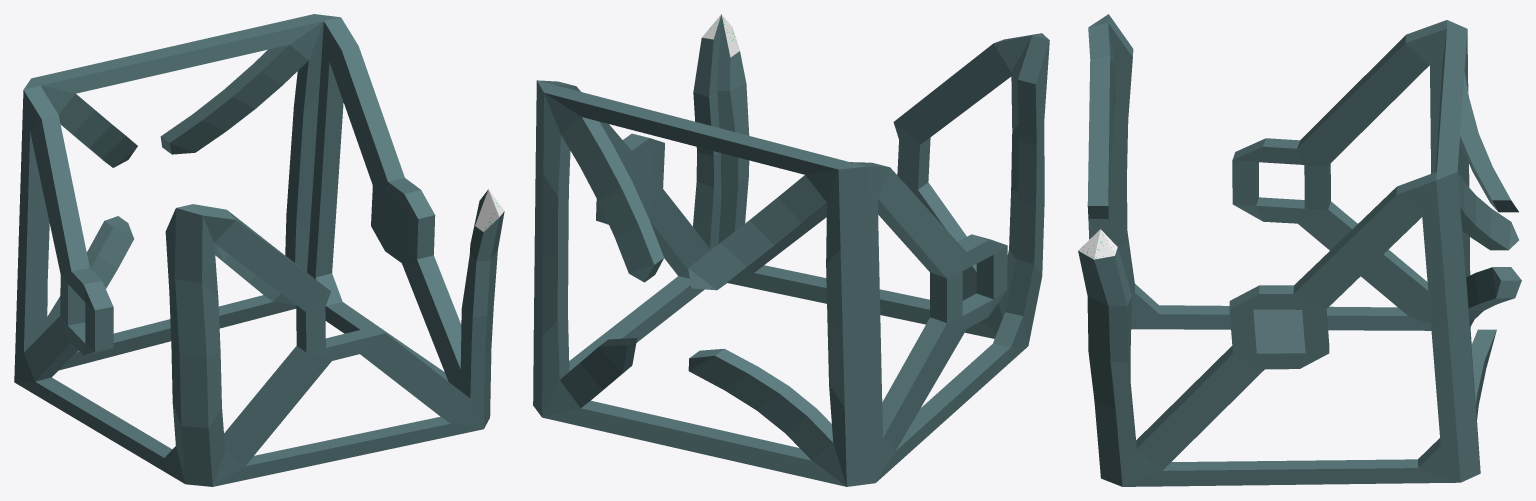
File: SteelLatticeWreck_C.fbx
3 renders of one model, left to right at view 1: azimuth 30°, elevation 25°; view 2: azimuth 150°, elevation 25°; view 3: azimuth 270°, elevation 25°, orthographic. The views are drawn at different scales.
Visible parts, largest first — view 1: SteelLatticeWreck_C; view 2: SteelLatticeWreck_C; view 3: SteelLatticeWreck_C.
Part boxes in pixels (<box>): SteelLatticeWreck_C: <box>14,14,504,486</box>; SteelLatticeWreck_C: <box>533,14,1049,486</box>; SteelLatticeWreck_C: <box>1078,14,1521,486</box>.
Bounding box in the file's own units: 2.47 × 2.62 × 2.01.
